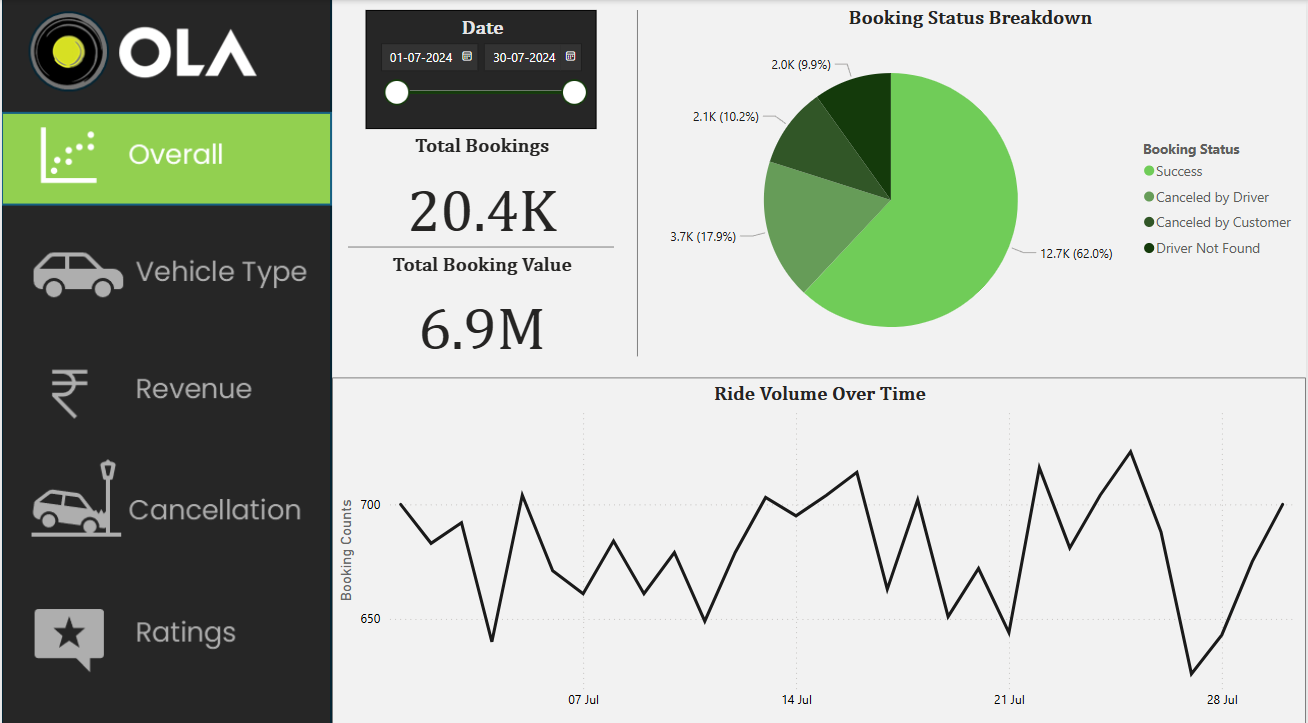

The page's visual inventory and layout, read from the dashboard file:
{"tool":"powerbi","page":{"name":"OverAll","canvas":[1280,720],"ordinal":0},"visuals":[{"type":"actionButton","box":[0,217.2,323.9,94.5],"z":0},{"type":"actionButton","box":[0,331.3,323.9,94.5],"z":1000},{"type":"actionButton","box":[0,446.6,323.9,94.5],"z":2000},{"type":"actionButton","box":[0,571.8,323.9,94.5],"z":3000},{"type":"lineChart","title":"Ride Volume Over Time","fields":{"Y":["CountNonNull(July.Booking_ID)"],"Category":["July.Date.Variation.Date Hierarchy.Year","July.Date.Variation.Date Hierarchy.Quarter","July.Date.Variation.Date Hierarchy.Month","July.Date.Variation.Date Hierarchy.Day"]},"box":[323.9,370.6,955.8,349.7],"z":4000},{"type":"pieChart","title":"Booking Status Breakdown","fields":{"Y":["CountNonNull(July.Booking_ID)"],"Category":["July.Booking_Status"]},"box":[620.9,0,658.9,370.6],"z":5000},{"type":"slicer","title":"Date","fields":{"Values":["July.Date"]},"box":[356.8,9.6,226.4,116.6],"z":6000},{"type":"card","title":"Total Bookings","fields":{"Values":["Count(July.Booking_ID)"]},"box":[333.7,126.4,274.8,127.6],"z":7000},{"type":"card","title":"Total Booking Value","fields":{"Values":["Sum(July.Booking_Value)"]},"box":[333.7,242.9,274.8,127.6],"z":8000},{"type":"shape","box":[340.3,229.2,260.7,26.1],"z":9000},{"type":"shape","box":[607.9,9.6,32.9,340.3],"z":10000}]}

Visuals, with their boxes in screenshot pixels (x1, y1, x2, y2), scaled from the page's 1280x720 canvas onto the 1308x723 screenshot:
actionButton: BBox(0, 218, 331, 313)
actionButton: BBox(0, 333, 331, 428)
actionButton: BBox(0, 448, 331, 543)
actionButton: BBox(0, 574, 331, 669)
"Ride Volume Over Time" lineChart: BBox(331, 372, 1307, 722)
"Booking Status Breakdown" pieChart: BBox(634, 0, 1307, 372)
"Date" slicer: BBox(365, 10, 596, 127)
"Total Bookings" card: BBox(341, 127, 622, 255)
"Total Booking Value" card: BBox(341, 244, 622, 372)
shape: BBox(348, 230, 614, 256)
shape: BBox(621, 10, 655, 351)
